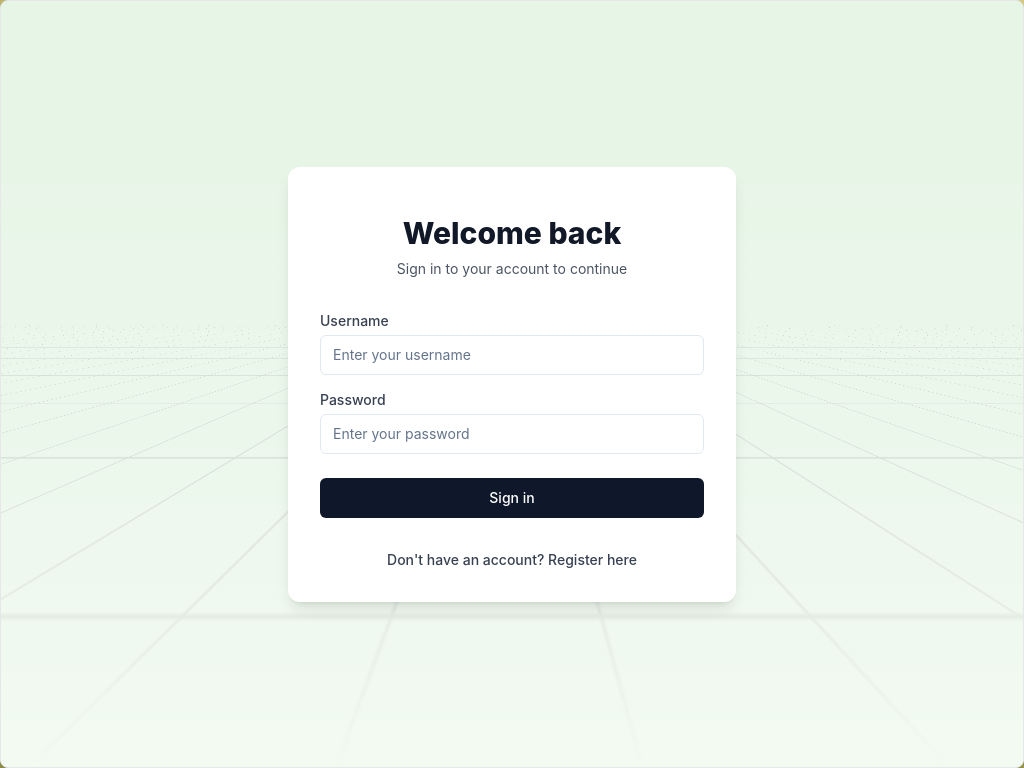
Test: LoginPage › displays error message on failed login (generic error)
Type "wronguser" into the field labelled "Username" at {"x": 512, "y": 354}, box [320, 334, 704, 374]
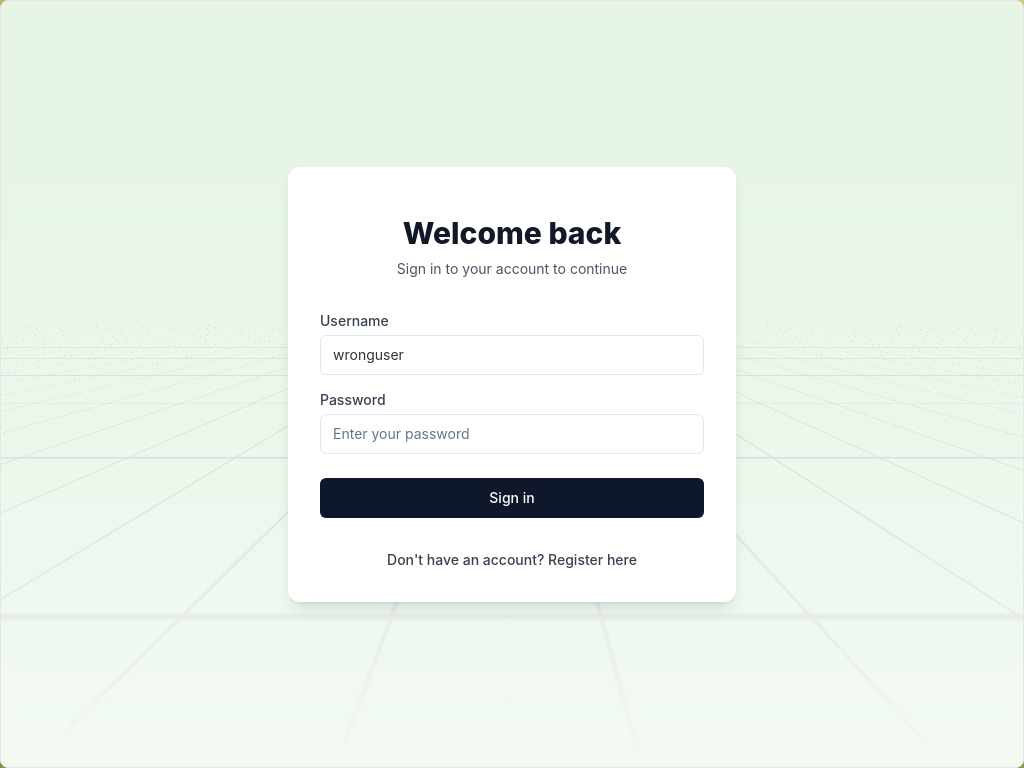
Type "wrongpassword" into the password field labelled "Password" at {"x": 512, "y": 434}, box [320, 414, 704, 454]
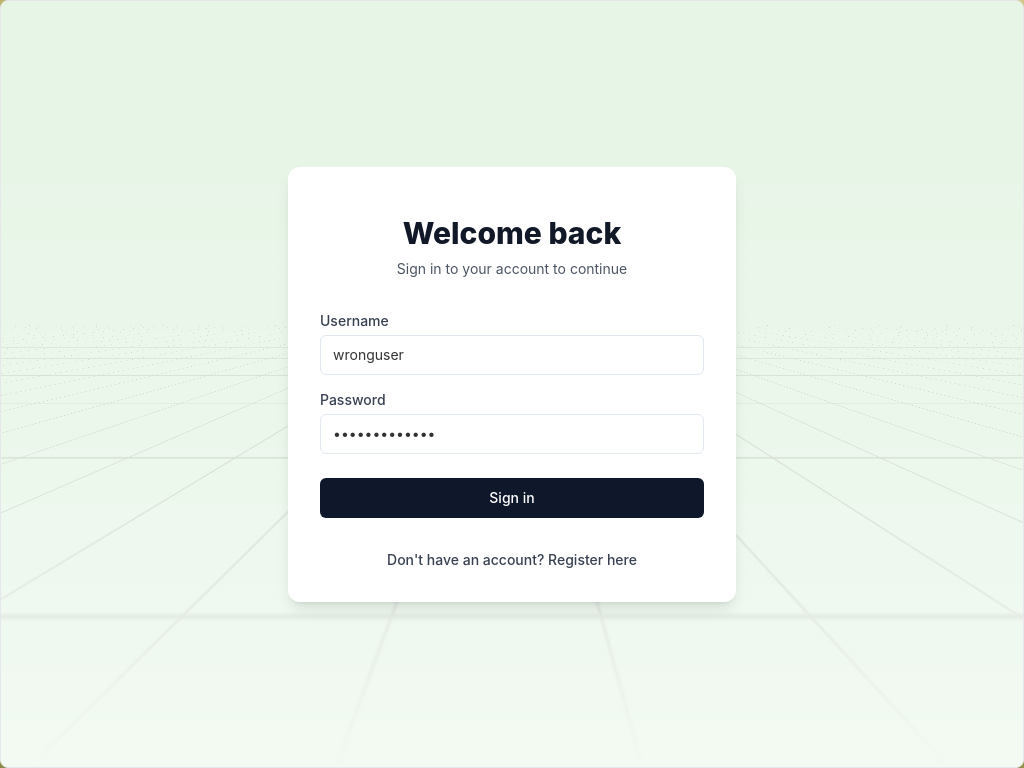
Click the button "Sign in" at {"x": 512, "y": 498}, box [320, 478, 704, 518]
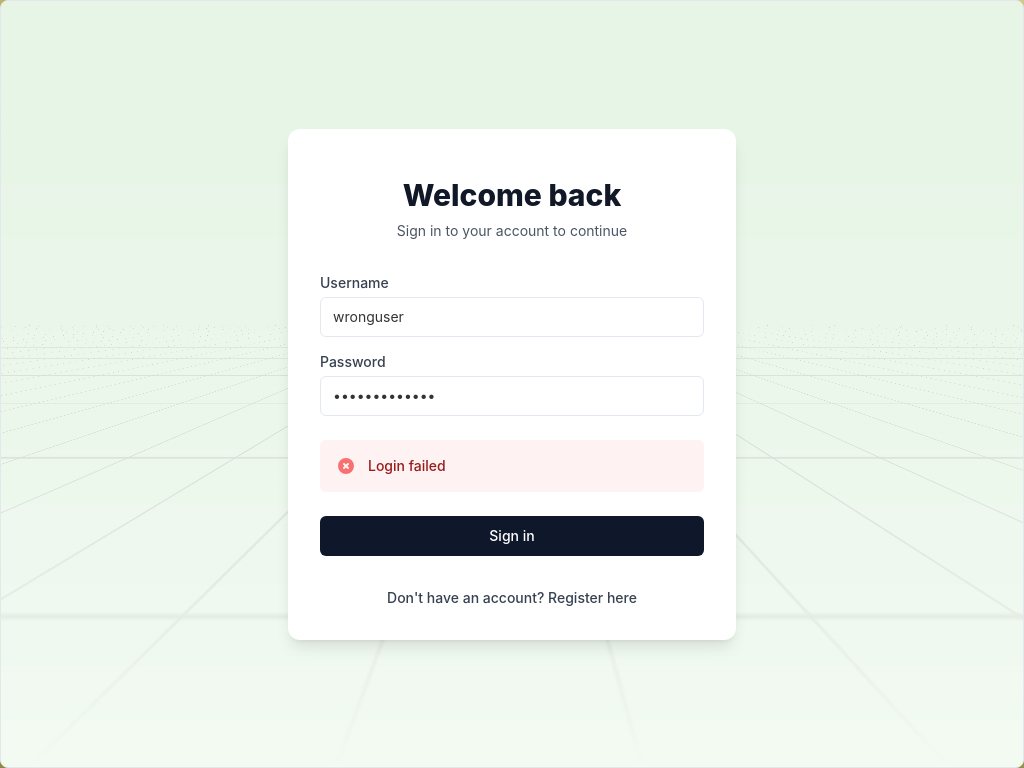
Now the heading "Login failed" is shown, box [368, 456, 446, 476]
